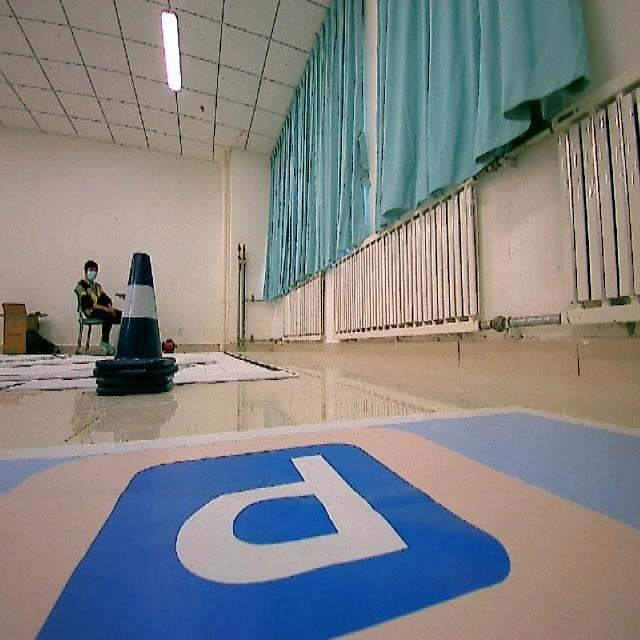obstacle: (94, 246, 184, 398)
